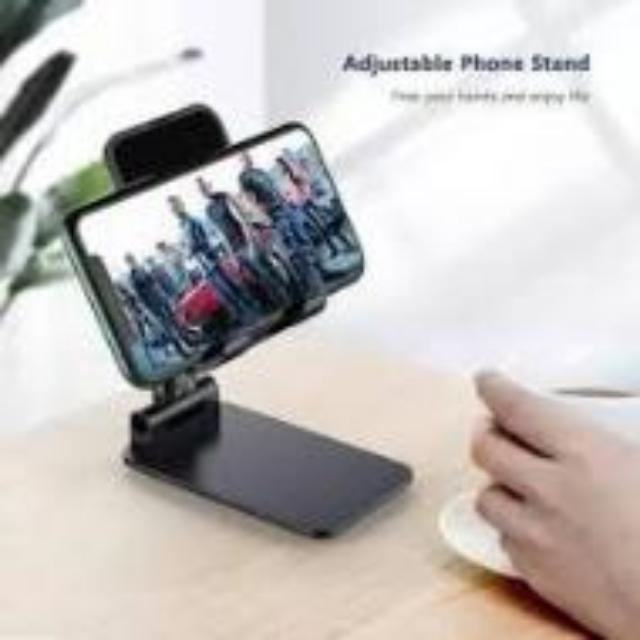phone: (55, 109, 377, 539)
